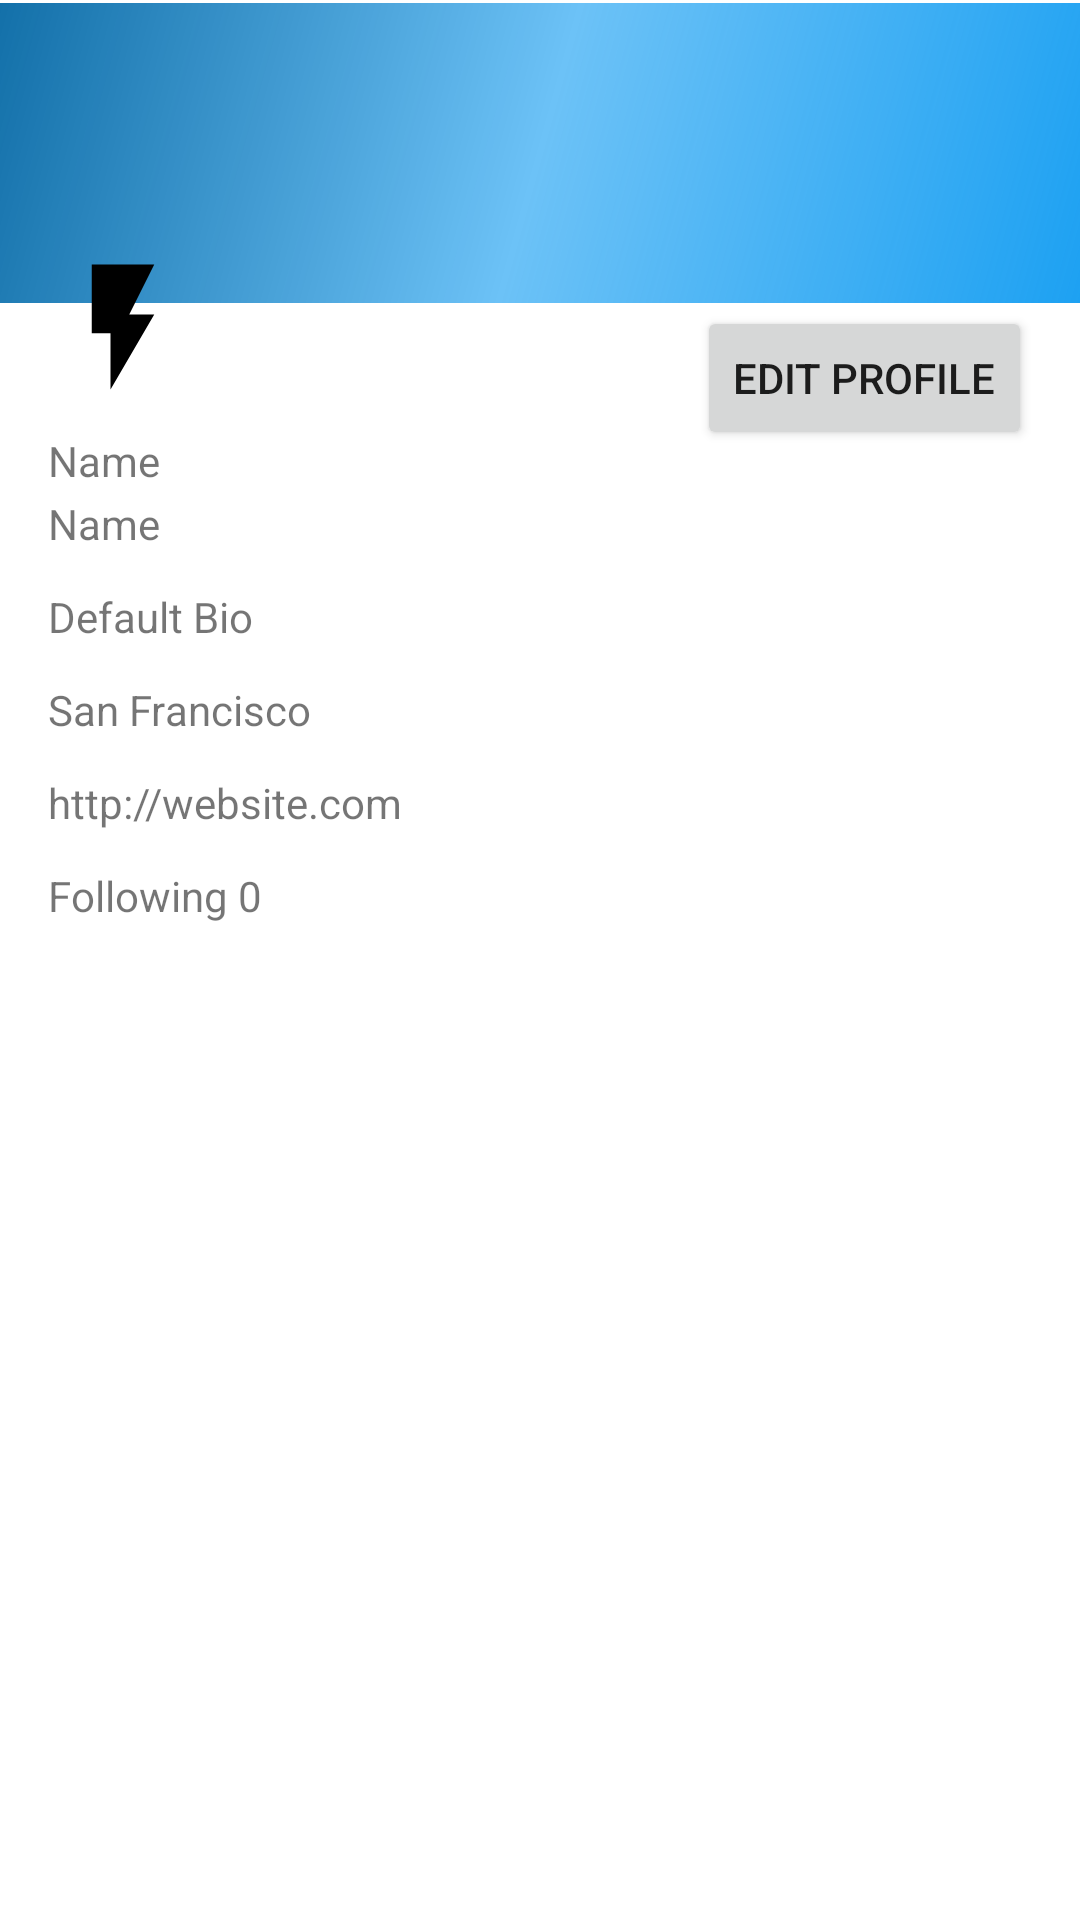

Named icons in this screenshot (1080px x 1920px) and their centers, (x,y):
lightning: (123,327)
